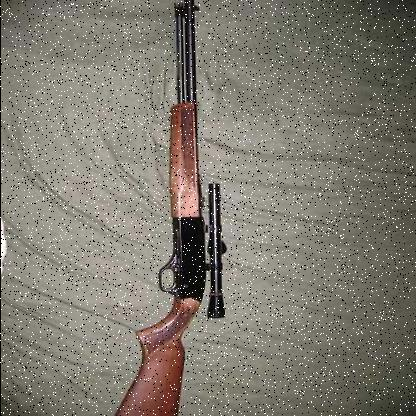rifle: (71, 1, 237, 415)
